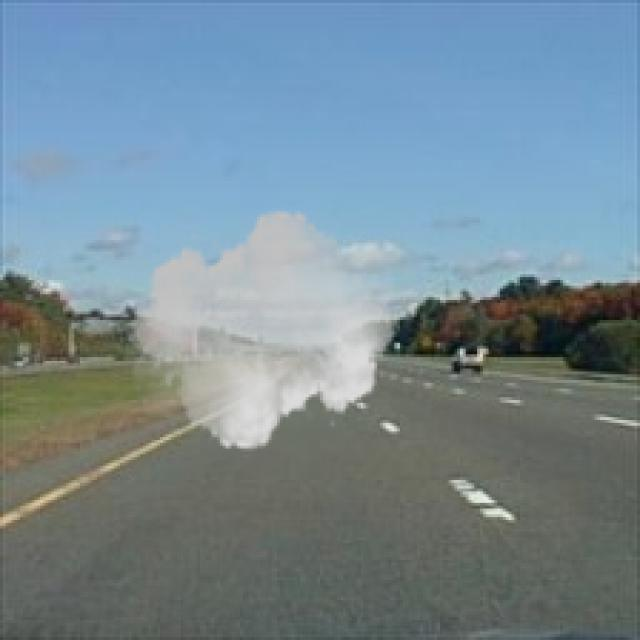Smoke: (126, 200, 400, 460)
